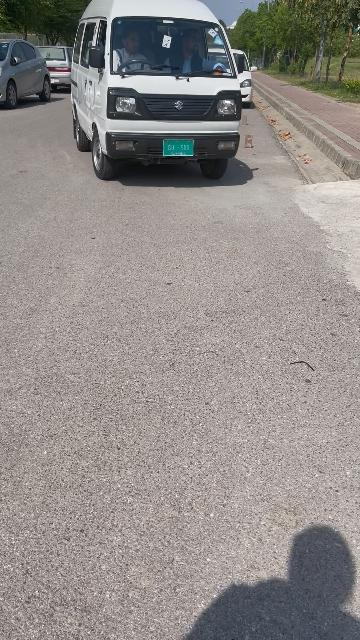plate: (164, 140, 192, 156)
